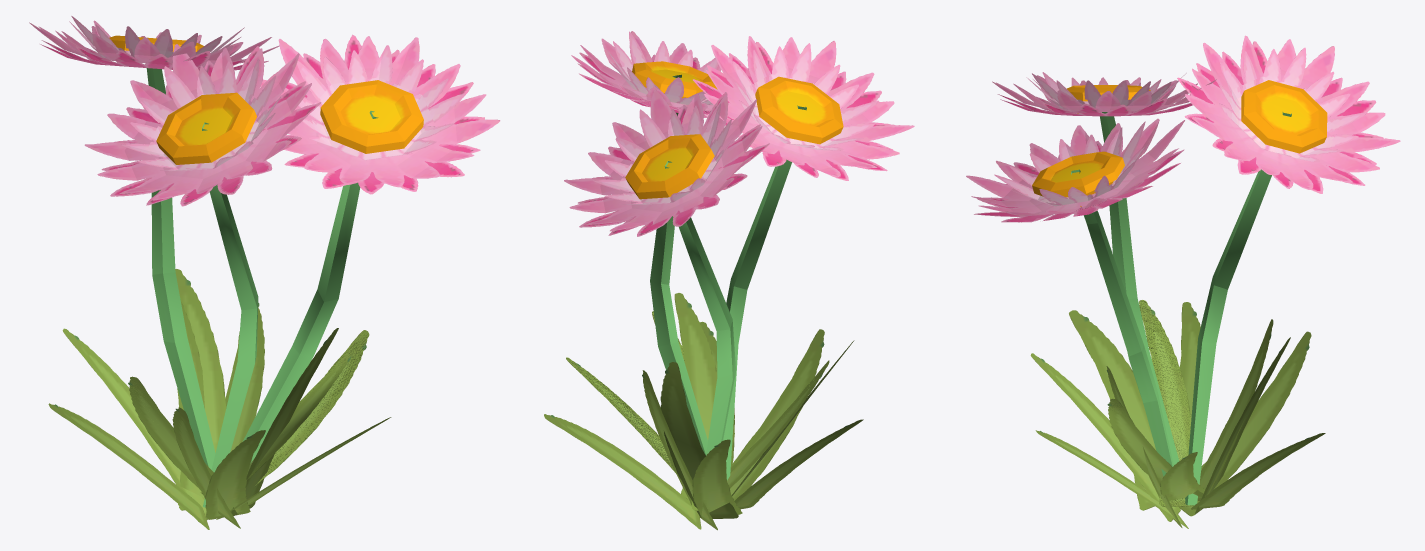
File: Pink Paper Daisy_Hand.fbx
3 views of the same model, side by side, from view 1: azimuth 30°, elevation 25°; view 2: azimuth 150°, elevation 25°; view 3: azimuth 270°, elevation 25° (orthographic). The views are drawn at different scales.
Visible parts, largest first — view 1: Leaves (1), Leaves (3), Leaves (2); view 2: Leaves (2), Leaves (1), Leaves (3); view 3: Leaves (2), Leaves (3), Leaves (1).
Part boxes in pixels (x1,y1,x2,y2): Leaves (1): [48, 44, 357, 529]; Leaves (3): [172, 34, 500, 528]; Leaves (2): [29, 16, 338, 522]; Leaves (2): [544, 89, 829, 529]; Leaves (1): [642, 36, 914, 530]; Leaves (3): [566, 31, 854, 518]; Leaves (2): [1106, 35, 1400, 527]; Leaves (3): [966, 118, 1273, 528]; Leaves (1): [992, 72, 1290, 521].
Size of the model in its own units: 1.14 by 1.41 by 1.27.
1 material, 1 textured.
